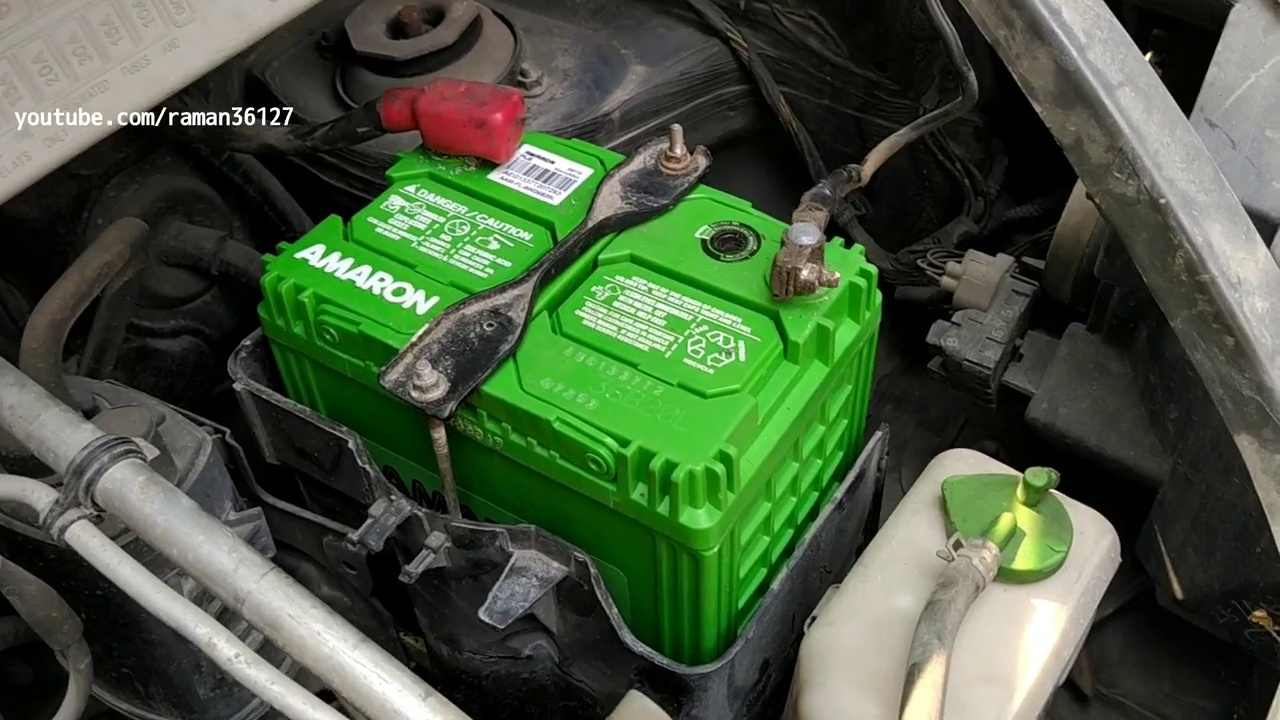battery: (277, 81, 874, 494)
neg_connected: (723, 163, 872, 318)
pos_connected: (349, 54, 540, 180)
